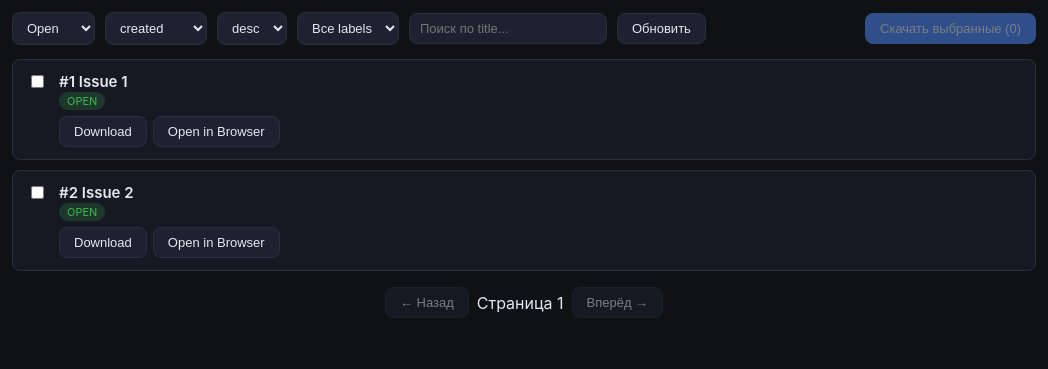
it: edge cases › selecting the same issue in the same mode twice does not duplicate the filter
Type "!dep#a" into the field with placeholder "Поиск по title...". click: (508, 28)
box: top-left (409, 13), bottom-right (607, 44)
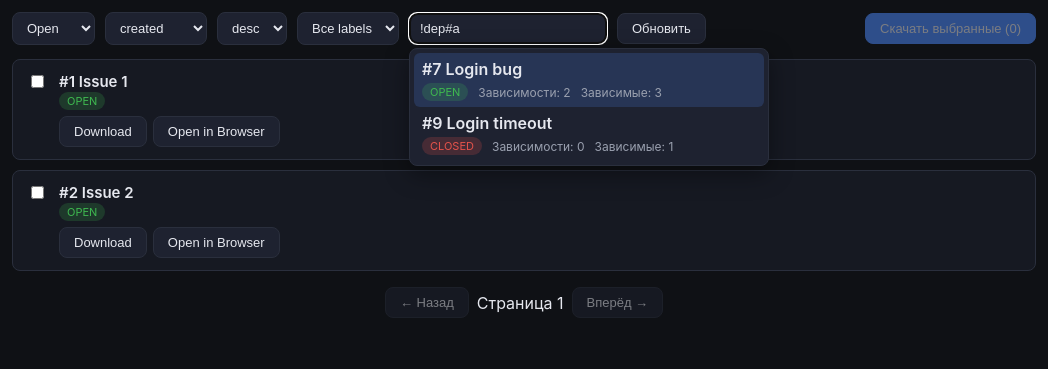
Click the option "#7 Login bug open Зависимости: 2 Зависимые: 3". click: (484, 69)
box: top-left (414, 53), bottom-right (764, 107)
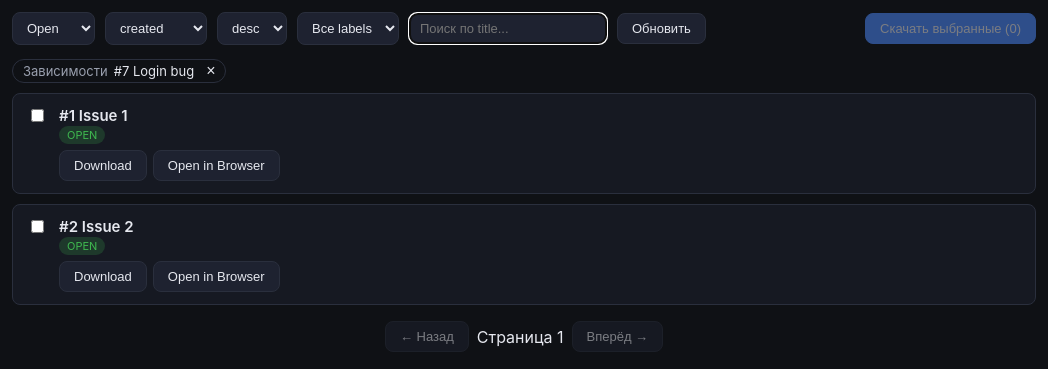
Type "!dep#a" into the field with placeholder "Поиск по title...". click: (508, 28)
box: top-left (409, 13), bottom-right (607, 44)
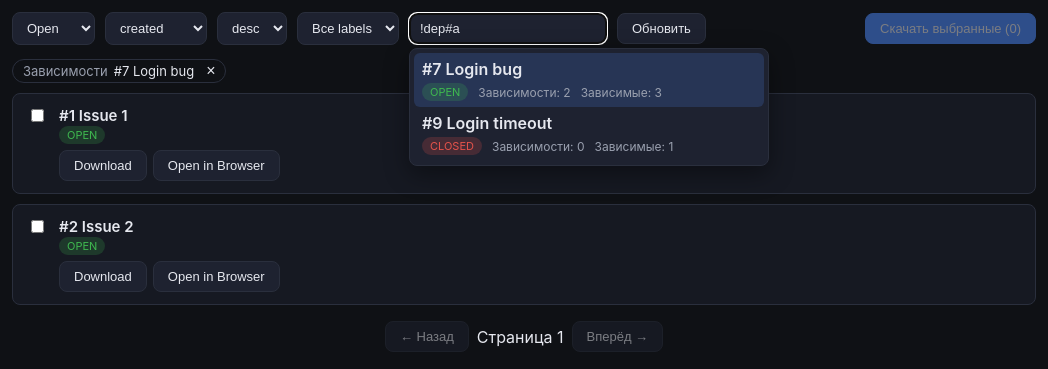
Click the option "#7 Login bug open Зависимости: 2 Зависимые: 3". click: (484, 69)
box: top-left (414, 53), bottom-right (764, 107)
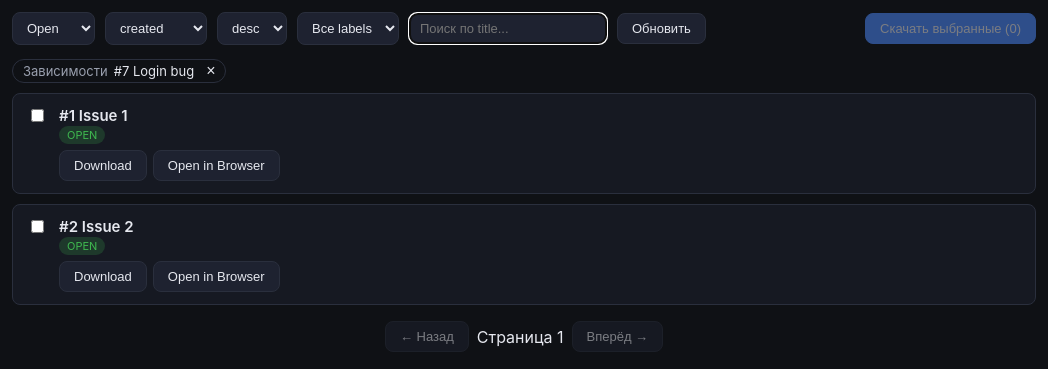
Now the number of list items is 1, box top-left (12, 59), bottom-right (226, 83)
Now the field with placeholder "Поиск по title..." is empty, box top-left (409, 13), bottom-right (607, 44)
